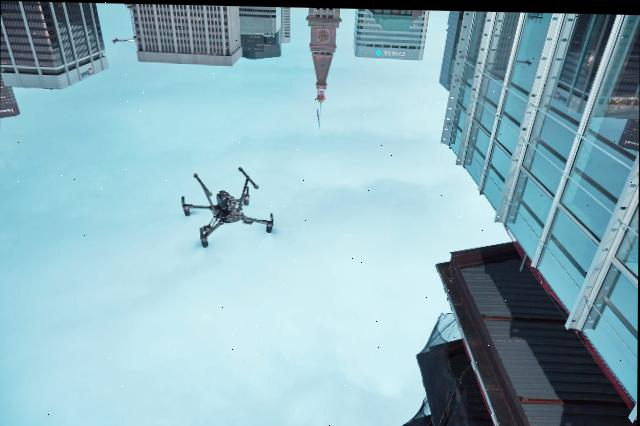drone: (125, 150, 325, 276)
